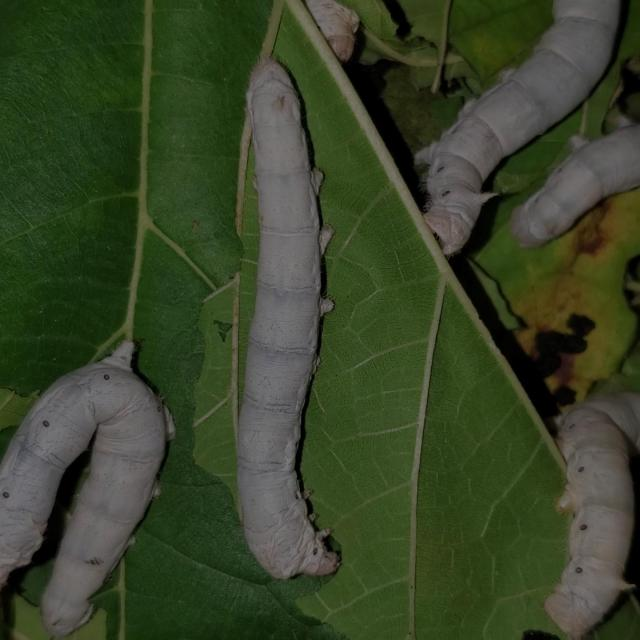Healthy: (202, 59, 362, 587), (0, 340, 166, 634)
